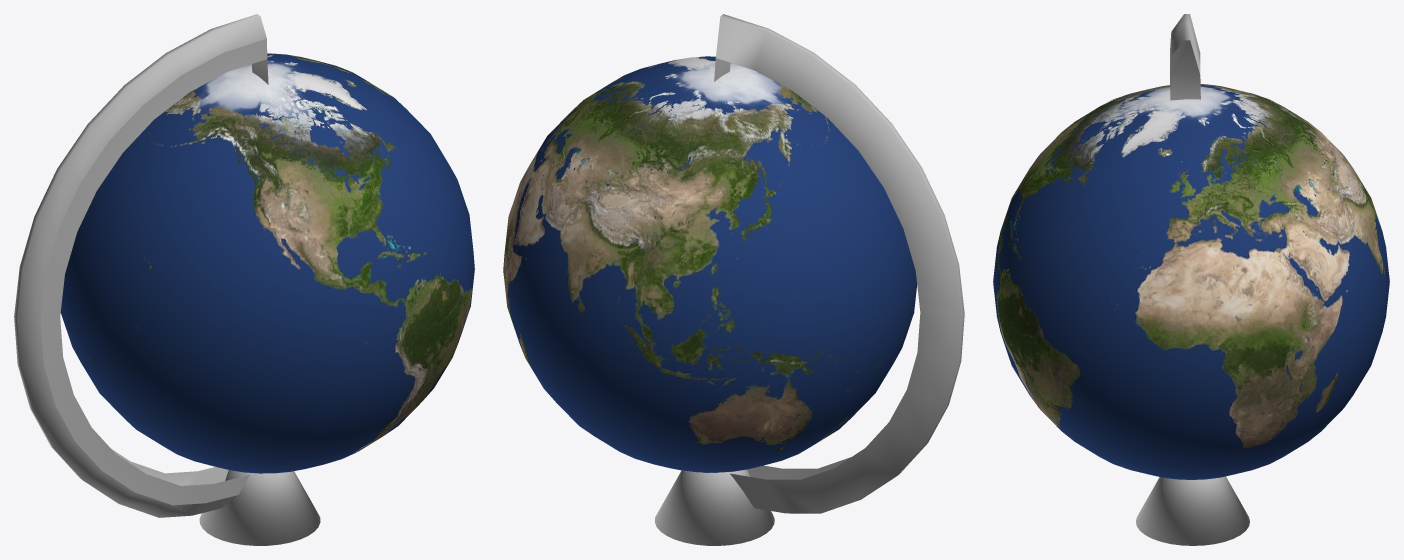
The model's file is globe.fbx.
The picture shows the model from 3 angles, left to right: view 1: azimuth 30°, elevation 25°; view 2: azimuth 150°, elevation 25°; view 3: azimuth 270°, elevation 25°; orthographic projection. The views are drawn at different scales.
Parts seen in each view (by area): view 1: Sphere.001, Circle, Cone.003; view 2: Sphere.001, Circle, Cone.003; view 3: Sphere.001, Cone.003, Circle.
Part boxes in pixels (x1=…): Sphere.001: x1=60, y1=53, x2=474, y2=473; Circle: x1=14, y1=14, x2=268, y2=517; Cone.003: x1=199, y1=470, x2=320, y2=545; Sphere.001: x1=503, y1=56, x2=917, y2=472; Circle: x1=714, y1=14, x2=964, y2=513; Cone.003: x1=655, y1=469, x2=774, y2=545; Sphere.001: x1=993, y1=84, x2=1389, y2=479; Cone.003: x1=1136, y1=476, x2=1249, y2=545; Circle: x1=1170, y1=14, x2=1200, y2=100.
Bounding box in the file's own units: 42.02 × 47.07 × 35.29.
